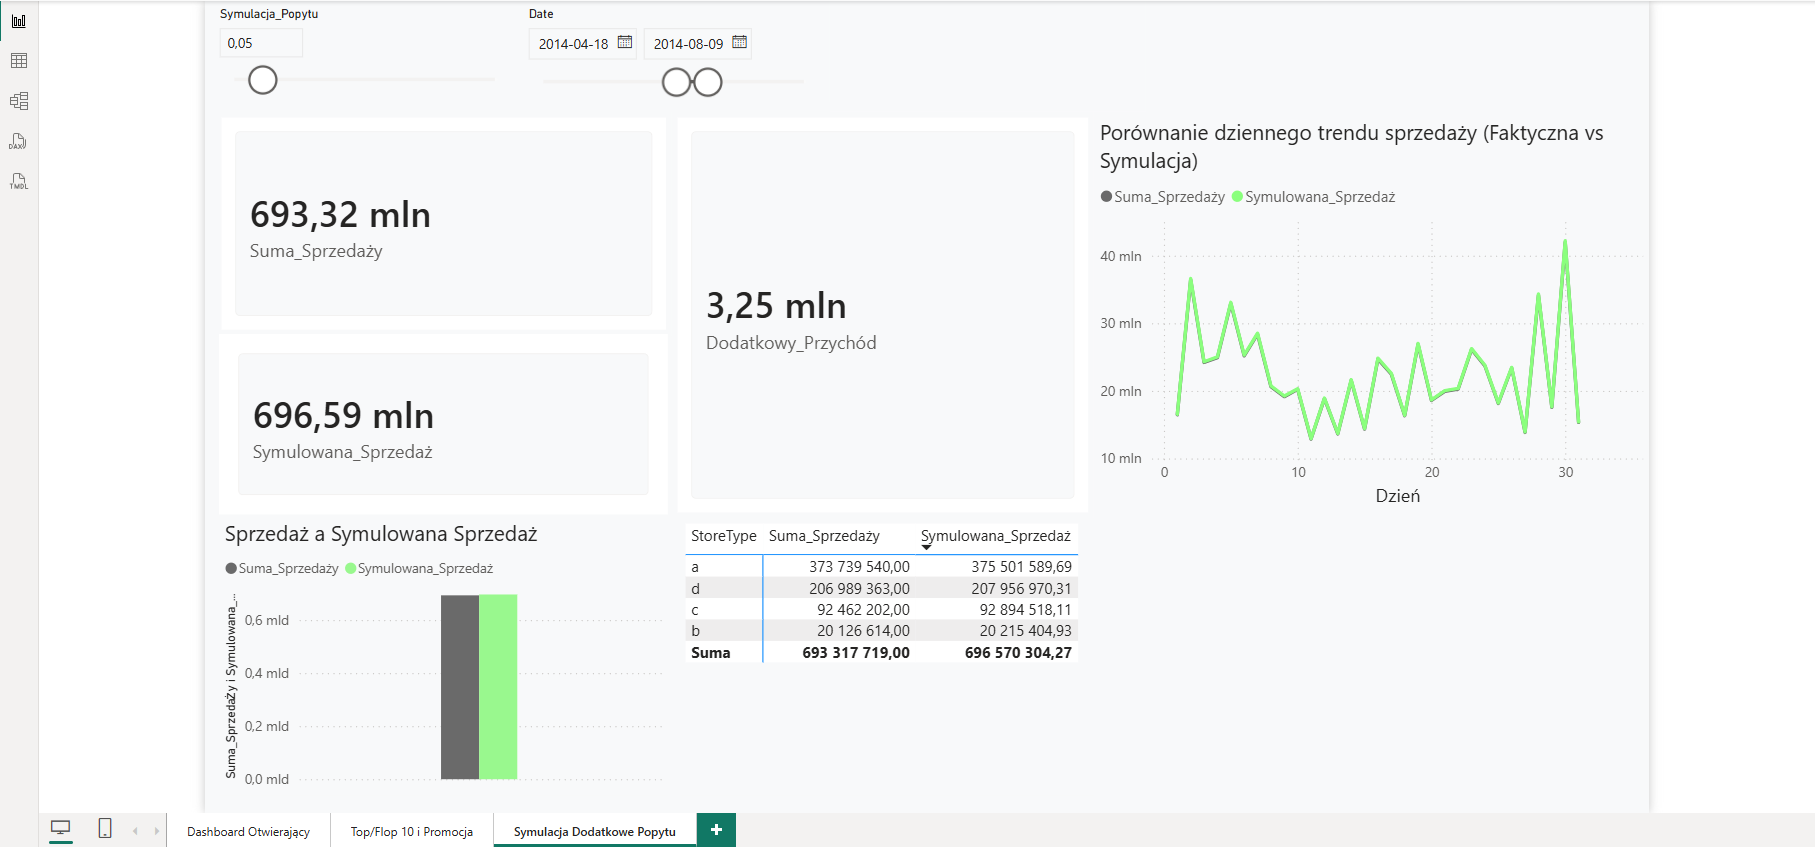

Layout of this report page (visuals, bound fields, positions):
{"tool":"powerbi","page":{"name":"Symulacja Dodatkowe Popytu","canvas":[1280,720],"ordinal":2},"visuals":[{"type":"slicer","fields":{"Values":["Symulacja_Popytu.Symulacja_Popytu"]},"box":[0,0,280.3,89.6],"z":0},{"type":"slicer","fields":{"Values":["rossmann_decision_data (1).Date"]},"box":[274,0,280.2,89.6],"z":1000},{"type":"textbox","box":[554.2,0,280.2,98.4],"z":2000},{"type":"clusteredColumnChart","title":"Sprzedaż a Symulowana Sprzedaż","fields":{"Y":["rossmann_decision_data (1).Suma Sprzedaży","rossmann_decision_data (1).Symulowana_Sprzedaż"]},"box":[12.4,458.4,398.1,245.6],"z":3000},{"type":"cardVisual","fields":{"Data":["rossmann_decision_data (1).Suma Sprzedaży"]},"box":[9.8,98.4,404.3,198.6],"z":4000},{"type":"cardVisual","fields":{"Data":["rossmann_decision_data (1).Symulowana_Sprzedaż"]},"box":[12.4,295.3,398.1,160.5],"z":5000},{"type":"pivotTable","fields":{"Values":["rossmann_decision_data (1).Suma Sprzedaży","rossmann_decision_data (1).Symulowana_Sprzedaż"],"Rows":["rossmann_decision_data (1).StoreType"]},"box":[421.2,458.4,367.1,245.6],"z":6000},{"type":"cardVisual","fields":{"Data":["rossmann_decision_data (1).Dodatkowy_Przychód"]},"box":[414.1,98.4,374.2,360],"z":6001},{"type":"lineChart","title":"Porównanie dziennego trendu sprzedaży (Faktyczna vs Symulacja)","fields":{"Category":["rossmann_decision_data (1).Date.Odmiana.Hierarchia dat.Dzień"],"Y":["rossmann_decision_data (1).Suma_Sprzedaży","rossmann_decision_data (1).Symulowana_Sprzedaż"]},"box":[788.3,102.9,492.1,351.1],"z":6002}]}

Visuals, with their boxes on the page's 1280x720 design canvas (x1, y1, x2, y2). These are canvas units, not pixel positions in the 1815x847 screenshot, which may show the page scaled, cropped or inside an application window:
slicer - Symulacja_Popytu.Symulacja_Popytu: detection(0, 0, 280, 90)
slicer - rossmann_decision_data (1).Date: detection(274, 0, 554, 90)
textbox: detection(554, 0, 834, 98)
"Sprzedaż a Symulowana Sprzedaż" clusteredColumnChart: detection(12, 458, 410, 704)
cardVisual - rossmann_decision_data (1).Suma Sprzedaży: detection(10, 98, 414, 297)
cardVisual - rossmann_decision_data (1).Symulowana_Sprzedaż: detection(12, 295, 410, 456)
pivotTable - rossmann_decision_data (1).Suma Sprzedaży x rossmann_decision_data (1).Symulowana_Sprzedaż: detection(421, 458, 788, 704)
cardVisual - rossmann_decision_data (1).Dodatkowy_Przychód: detection(414, 98, 788, 458)
"Porównanie dziennego trendu sprzedaży (Faktyczna vs Symulacja)" lineChart: detection(788, 103, 1280, 454)
